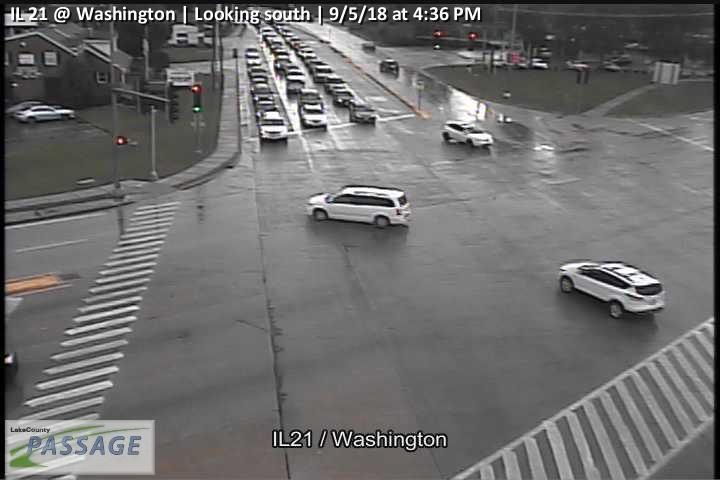SUV: (558, 259, 667, 319), (304, 184, 413, 229), (441, 119, 494, 149), (257, 111, 289, 141), (297, 88, 325, 108), (323, 74, 347, 92)
Sedan: (300, 102, 328, 127), (349, 104, 377, 123), (332, 89, 355, 105)
